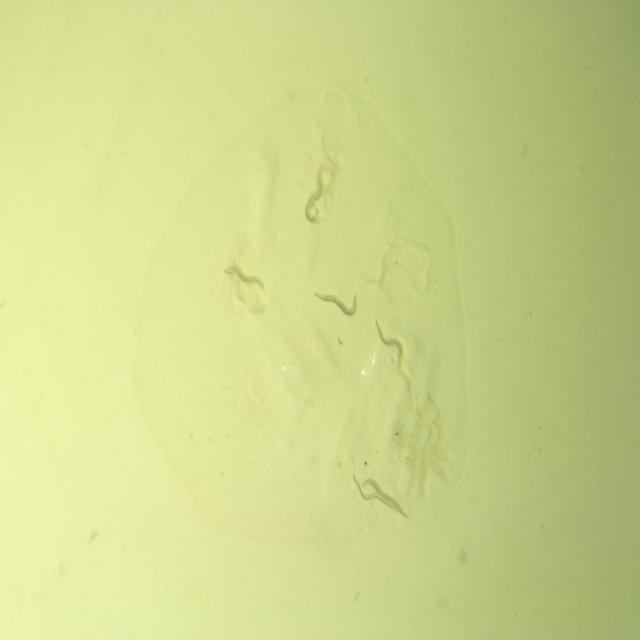worm: (348, 468, 401, 516), (360, 476, 411, 523), (311, 281, 361, 322), (218, 258, 269, 298), (374, 312, 406, 371), (300, 177, 330, 226)
